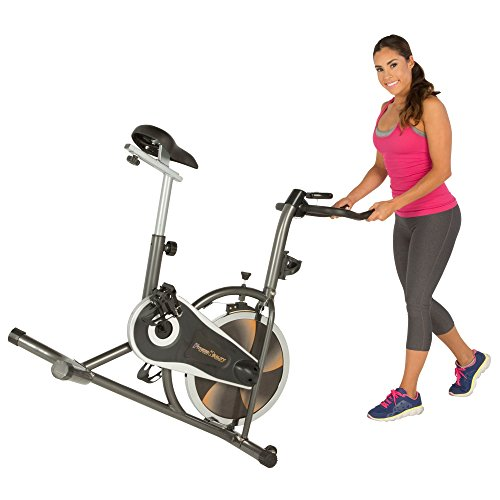gym_bike: (12, 114, 372, 474)
